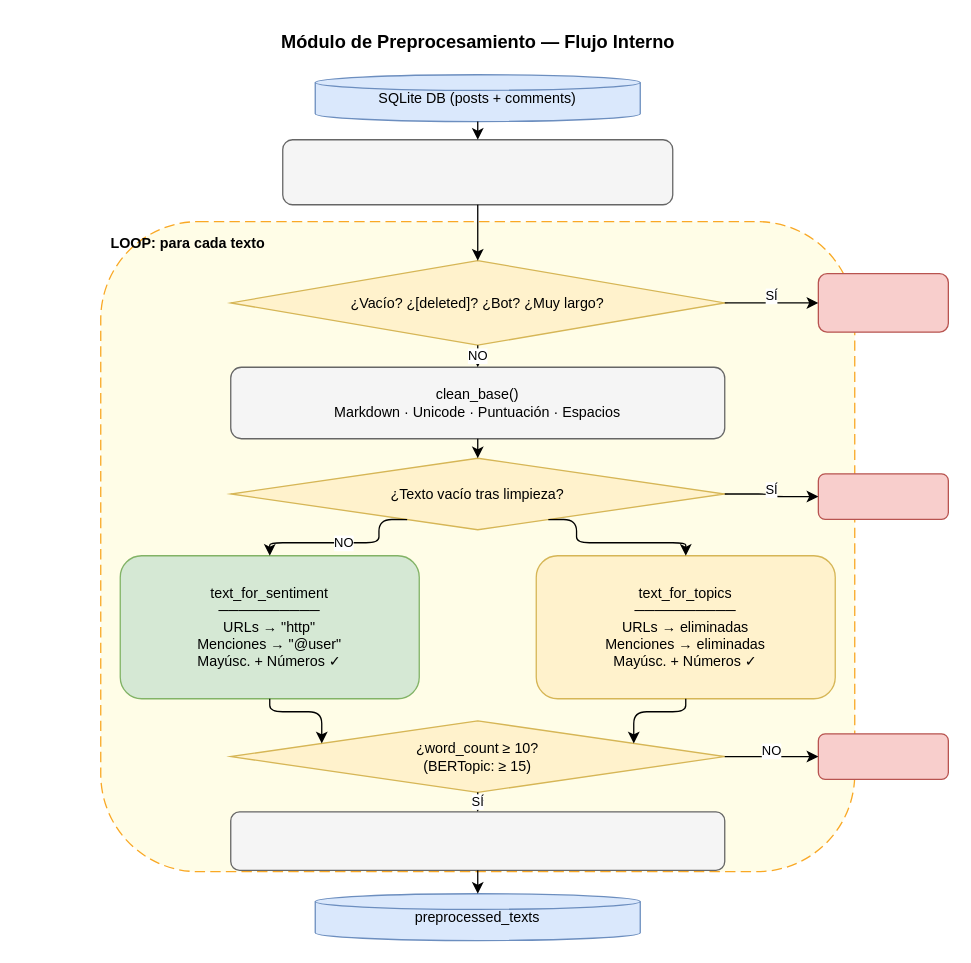
The diagram is 971 pixels wide and 963 high, and some of its shapes have lost their labels. Here are the shapes that lost their labels. From the top down, the centre of each, then its label:
At point (477, 171): "get_unprocessed_comments/posts() LEFT JOIN · limit = 5,000".
At point (882, 302): "Descartar / Truncar".
At point (882, 496): "Descartar".
At point (882, 756): "is_valid=False".
At point (477, 840): "insert_preprocessed_batch() — INSERT OR IGNORE".
